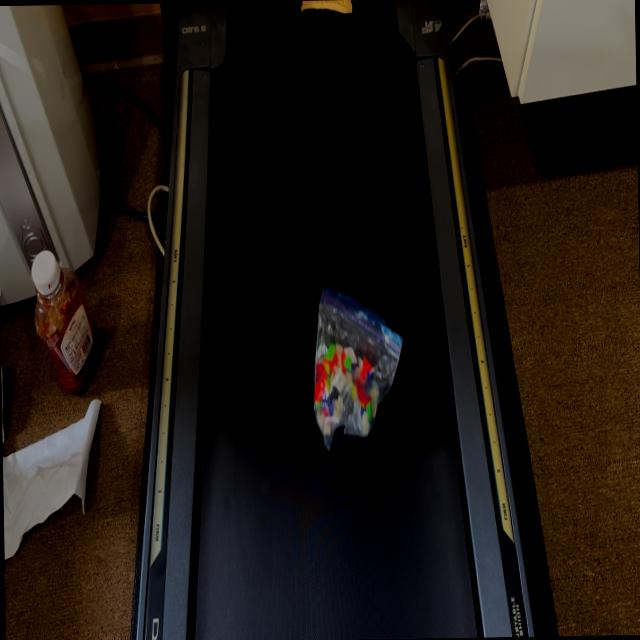Trash: (314, 284, 405, 451)
